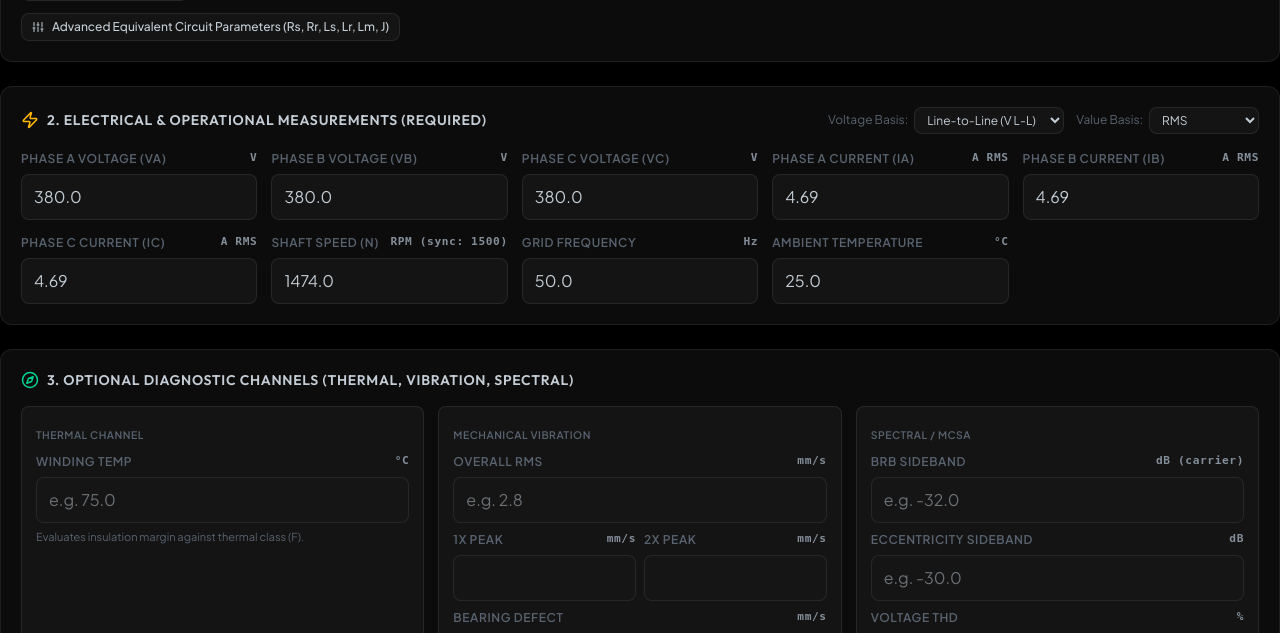
it: StaticDiagnosisPanel › validates speed strictly below synchronous speed before executing
(page scrolled)
Replace the text in the number field named "Shaft Speed" with "1500": (390, 281) [271,258,508,304]
(page scrolled)
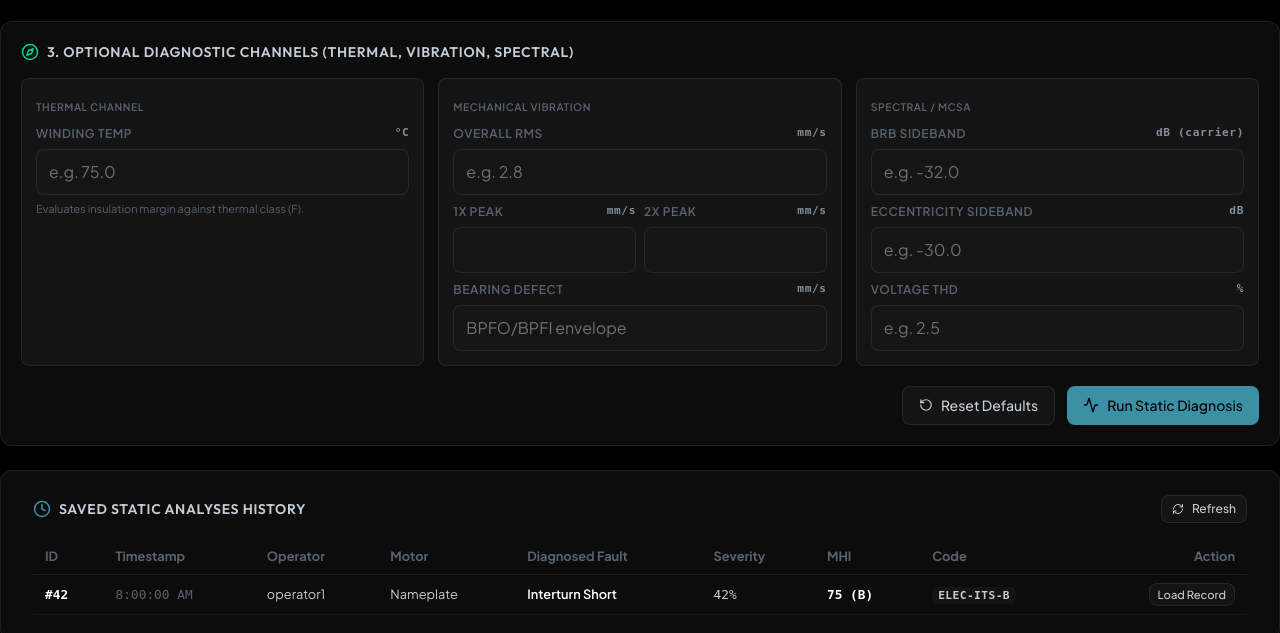
Click the button "Run Static Diagnosis": (1163, 405) [1067,386,1259,425]
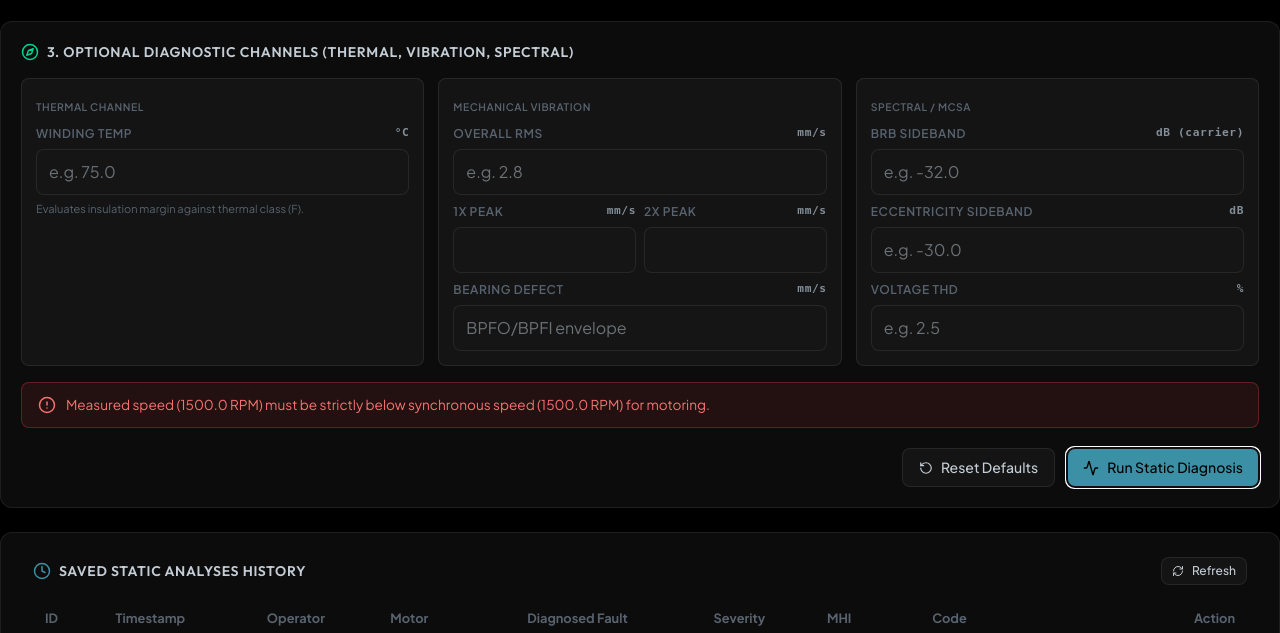
Now the text "Measured speed (1500.0 RPM) must be strictly below synchronous speed" is shown, box [66,396,710,413]
